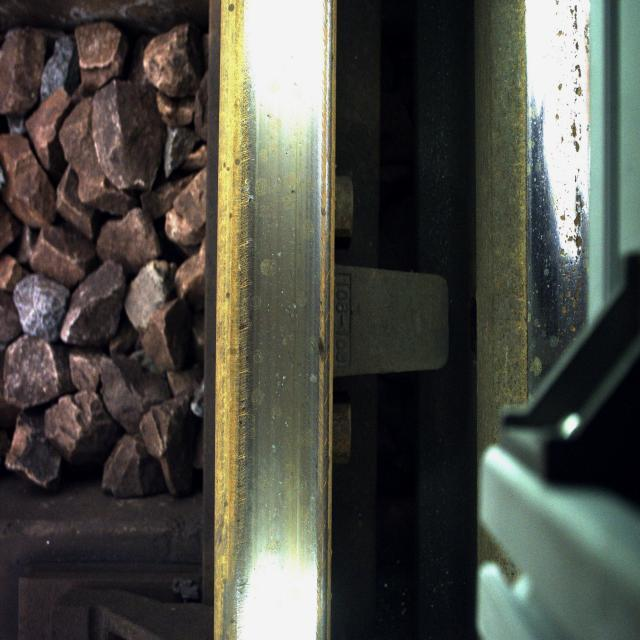scar: (221, 0, 310, 552), (546, 1, 594, 330)
